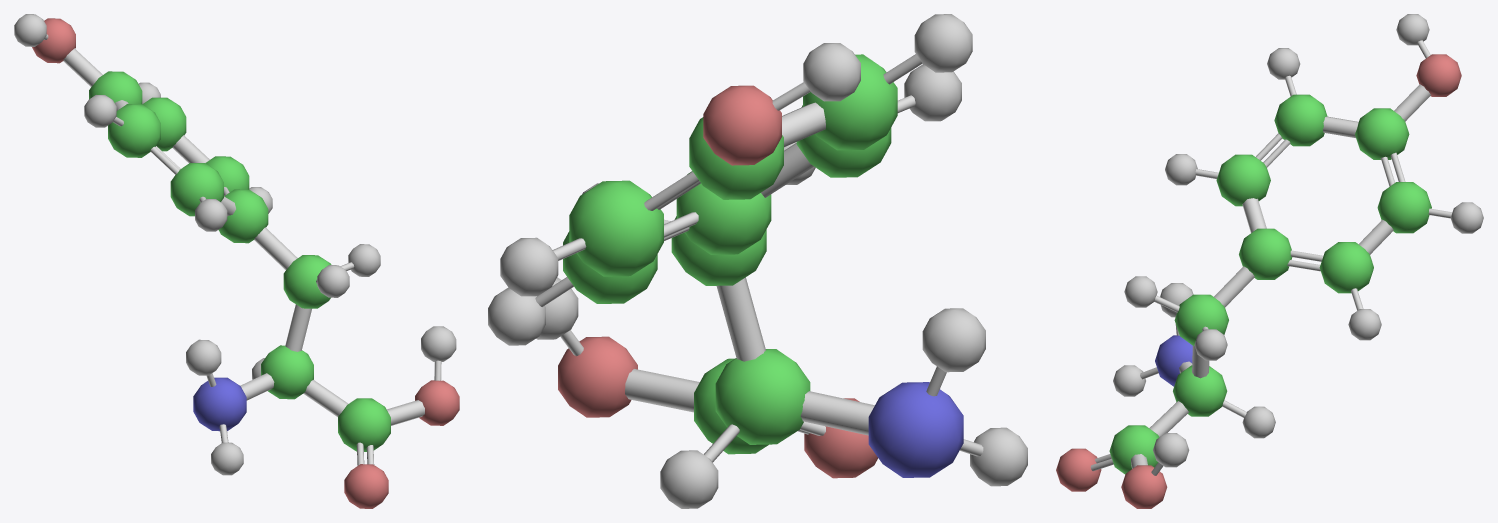
The model's file is tyrosine.glb.
3 renders of one model, left to right at view 1: azimuth 30°, elevation 25°; view 2: azimuth 150°, elevation 25°; view 3: azimuth 270°, elevation 25°, orthographic. The views are drawn at different scales.
Visible parts, largest first — view 1: geom28-material, geom38-material, geom35-material, geom29-material, geom33-material, geom31-material, geom30-material, geom39-material, geom50-material, geom34-material, geom37-material, geom36-material (+16 smaller); view 2: geom28-material, geom34-material, geom29-material, geom37-material, geom50-material, geom35-material, geom31-material, geom36-material, geom49-material, geom30-material, geom39-material, geom41-material (+16 smaller); view 3: geom32-material, geom36-material, geom34-material, geom35-material, geom31-material, geom33-material, geom29-material, geom30-material, geom38-material, geom50-material, geom37-material, geom39-material (+18 smaller).
Part boxes in pixels (x1,y1,x2,y2): geom28-material: (193,377,246,431); geom38-material: (338,398,390,451); geom35-material: (108,104,160,157); geom29-material: (261,345,313,399); geom33-material: (170,163,223,216); geom31-material: (218,189,268,243); geom30-material: (283,255,331,308); geom39-material: (344,464,388,508); geom50-material: (415,380,459,425); geom34-material: (142,97,186,151); geom37-material: (32,18,75,63); geom36-material: (89,71,142,104); geom28-material: (868,382,963,477); geom34-material: (569,180,663,276); geom29-material: (715,349,810,444); geom37-material: (703,85,781,165); geom50-material: (558,336,637,417); geom35-material: (803,54,897,150); geom31-material: (676,171,771,254); geom36-material: (689,117,783,199); geom49-material: (922,308,985,372); geom30-material: (671,216,766,285); geom39-material: (804,398,877,478); geom41-material: (500,237,558,296); geom32-material: (1319,242,1373,293); geom36-material: (1355,108,1409,159); geom34-material: (1377,182,1431,233); geom35-material: (1274,94,1327,146); geom31-material: (1239,228,1292,279); geom33-material: (1216,154,1270,206); geom29-material: (1173,365,1227,416); geom30-material: (1174,294,1228,345); geom38-material: (1109,425,1159,474); geom50-material: (1121,465,1167,508); geom37-material: (1416,54,1461,96); geom39-material: (1056,448,1101,491).
Size of the model in its own units: 5.86 by 7.24 by 7.06.
